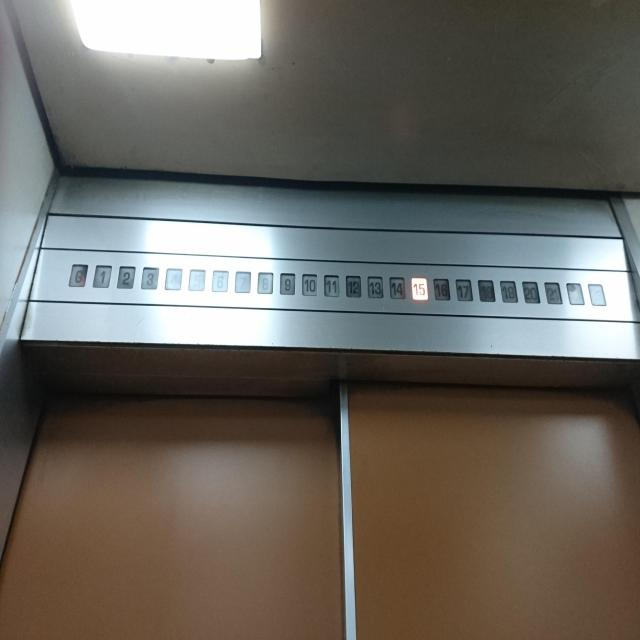1: (91, 263, 112, 289)
10: (301, 273, 318, 296)
11: (324, 274, 338, 296)
12: (344, 274, 362, 298)
13: (366, 275, 384, 299)
14: (388, 276, 407, 300)
15: (410, 276, 429, 301)
16: (432, 277, 452, 302)
17: (454, 277, 474, 302)
18: (476, 278, 496, 303)
19: (498, 278, 518, 304)
2: (115, 264, 137, 289)
20: (520, 280, 541, 305)
21: (543, 280, 563, 305)
3: (140, 266, 159, 288)
4: (164, 268, 182, 290)
5: (187, 268, 206, 292)
6: (210, 270, 228, 292)
7: (233, 270, 252, 294)
8: (256, 270, 274, 294)
9: (278, 271, 296, 296)
G: (66, 263, 88, 288)
empty: (586, 281, 608, 307), (564, 281, 584, 306)
